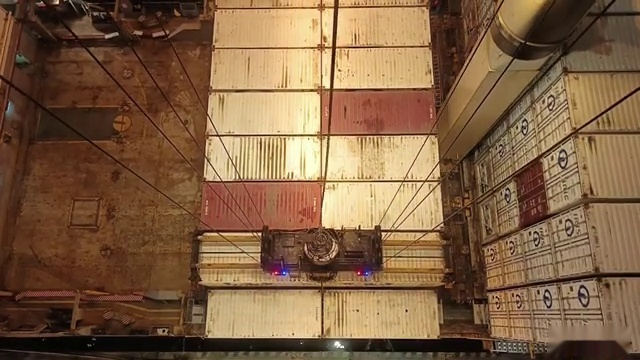container: (194, 228, 448, 288), (204, 289, 443, 341), (197, 182, 446, 230), (202, 136, 439, 183), (205, 92, 436, 137), (207, 48, 434, 93), (211, 6, 435, 49)
guide_mark: (62, 346, 561, 360), (97, 341, 542, 354)
spreader: (183, 223, 457, 288)
target_slot: (194, 230, 451, 288)
